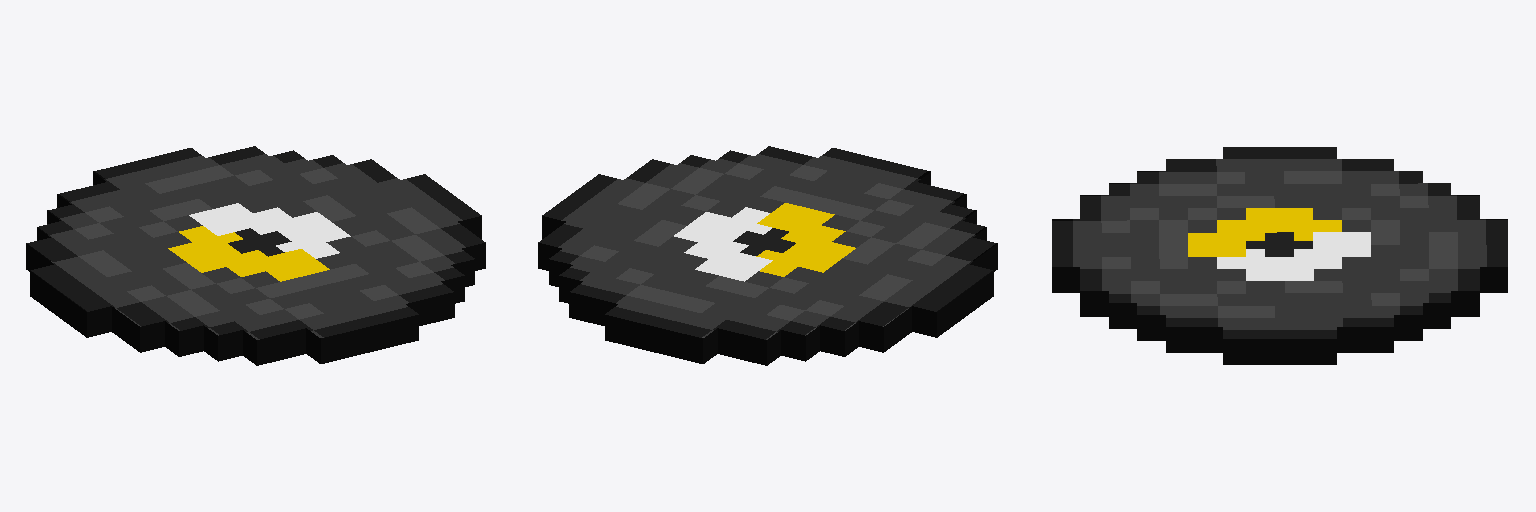
The picture shows the model from 3 angles: view 1: azimuth 30°, elevation 25°; view 2: azimuth 150°, elevation 25°; view 3: azimuth 270°, elevation 25°; orthographic projection.
Visible parts, largest first — view 1: Disk; view 2: Disk; view 3: Disk.
Part boxes in pixels (left/top/right/bottom): Disk: left=26, top=146, right=485, bottom=365; Disk: left=538, top=146, right=997, bottom=365; Disk: left=1052, top=147, right=1507, bottom=364.
Size of the model in its own units: 39.69 by 2.48 by 39.69.
Materials: 1 (1 with a texture image).